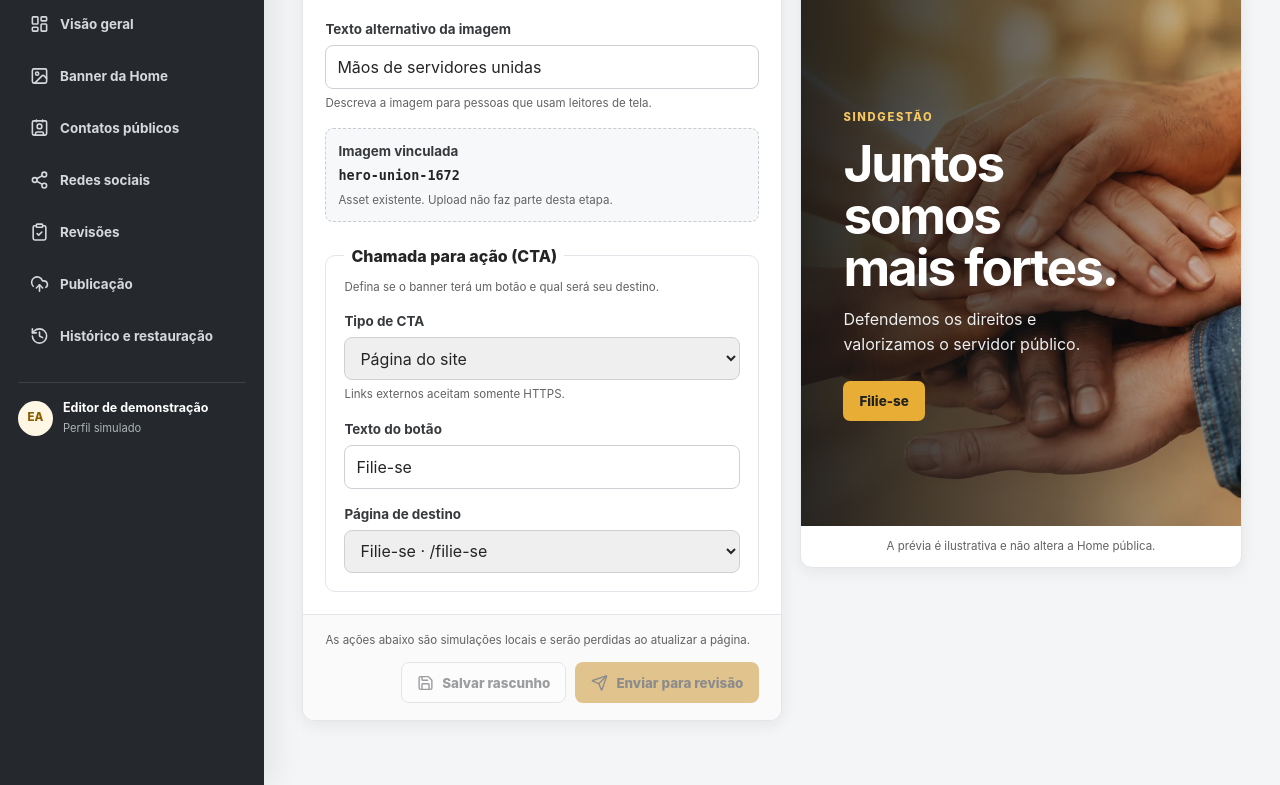
Test case: HomeManagementPage › switches between disabled, internal and external CTA contracts
The width and height of the screenshot is (1280, 785).
(page scrolled)
Select "Sem botão" in the dropdown labelled "Tipo de CTA Links externos aceitam somente HTTPS.". click: (542, 359)
box: [344,337,740,380]
(page scrolled)
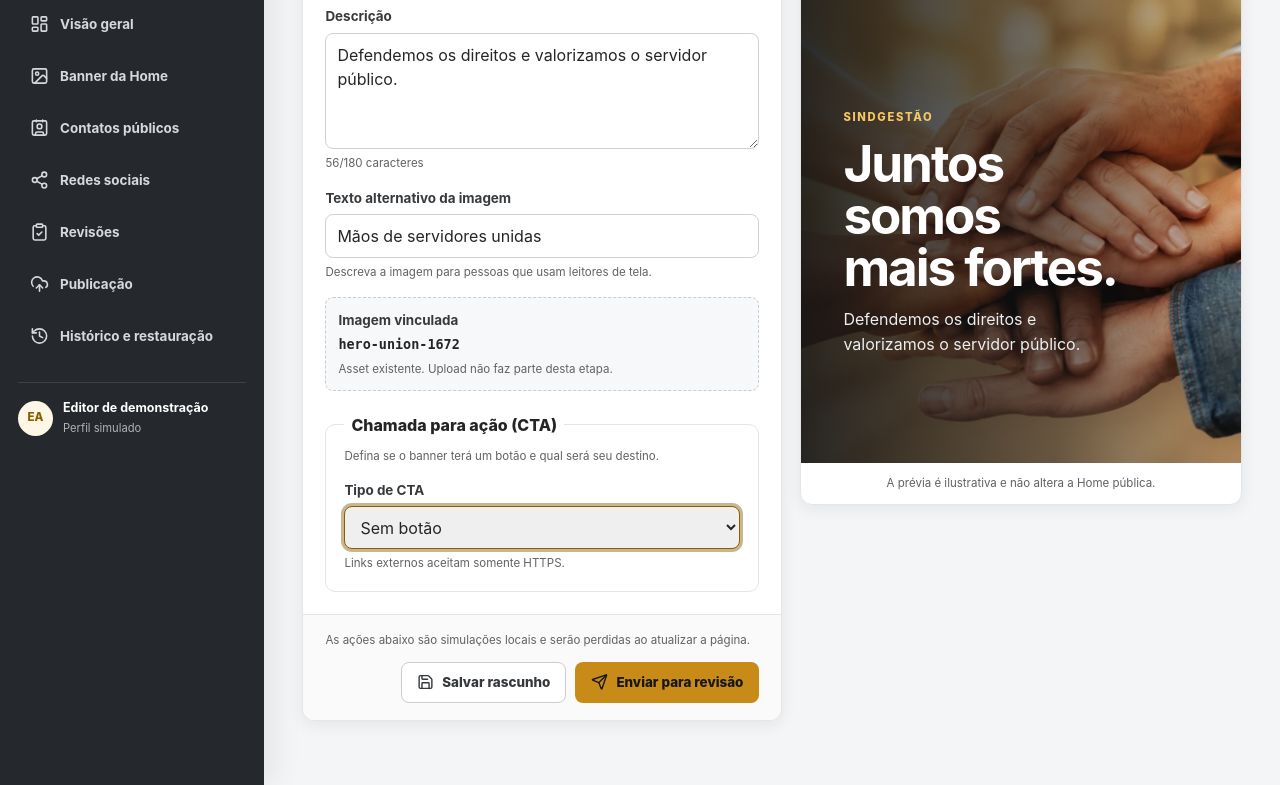
expect the text labelled "Texto do botão" is gone: met
Select "Endereço externo" in the dropdown labelled "Tipo de CTA Links externos aceitam somente HTTPS.". click: (542, 528)
box: [344,506,740,549]
(page scrolled)
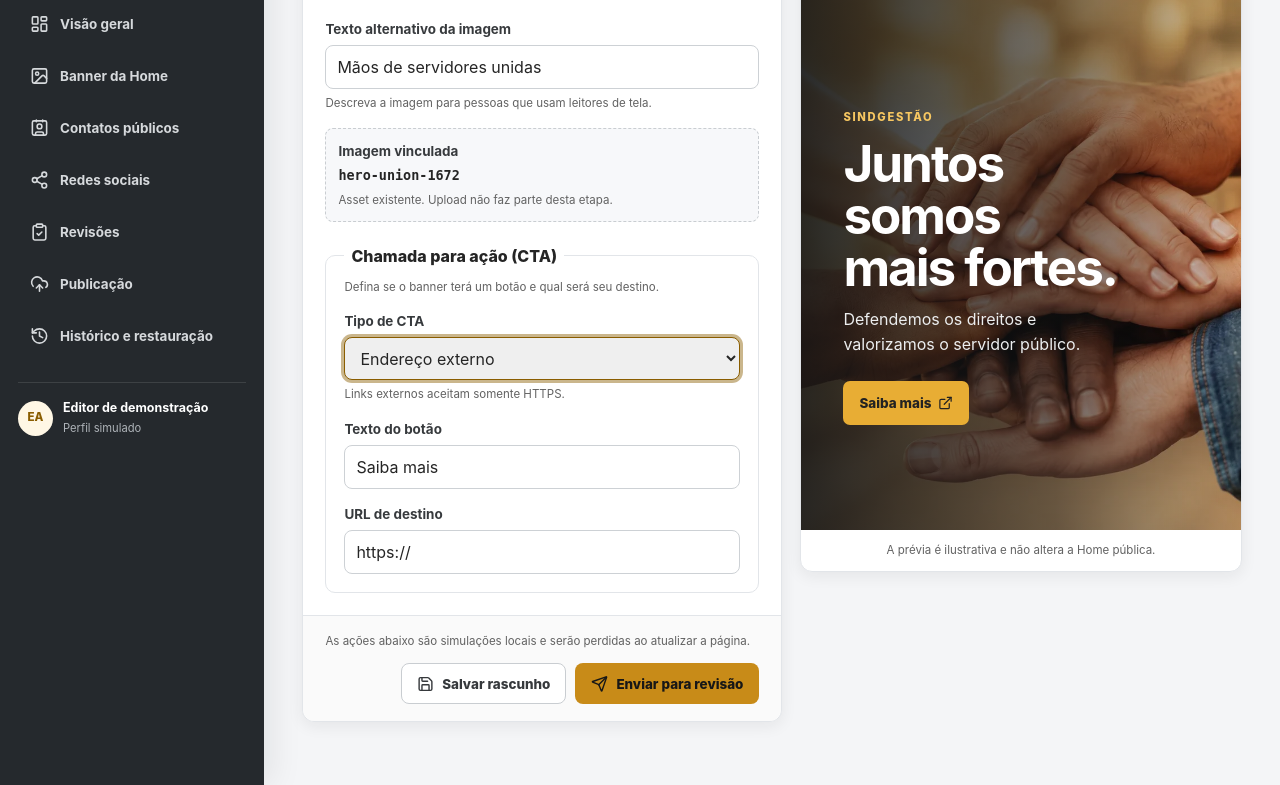
expect the field labelled "URL de destino" holds "https://": met, box [344,530,740,574]
Select "Página do site" in the dropdown labelled "Tipo de CTA Links externos aceitam somente HTTPS.". click: (542, 359)
box: [344,337,740,380]
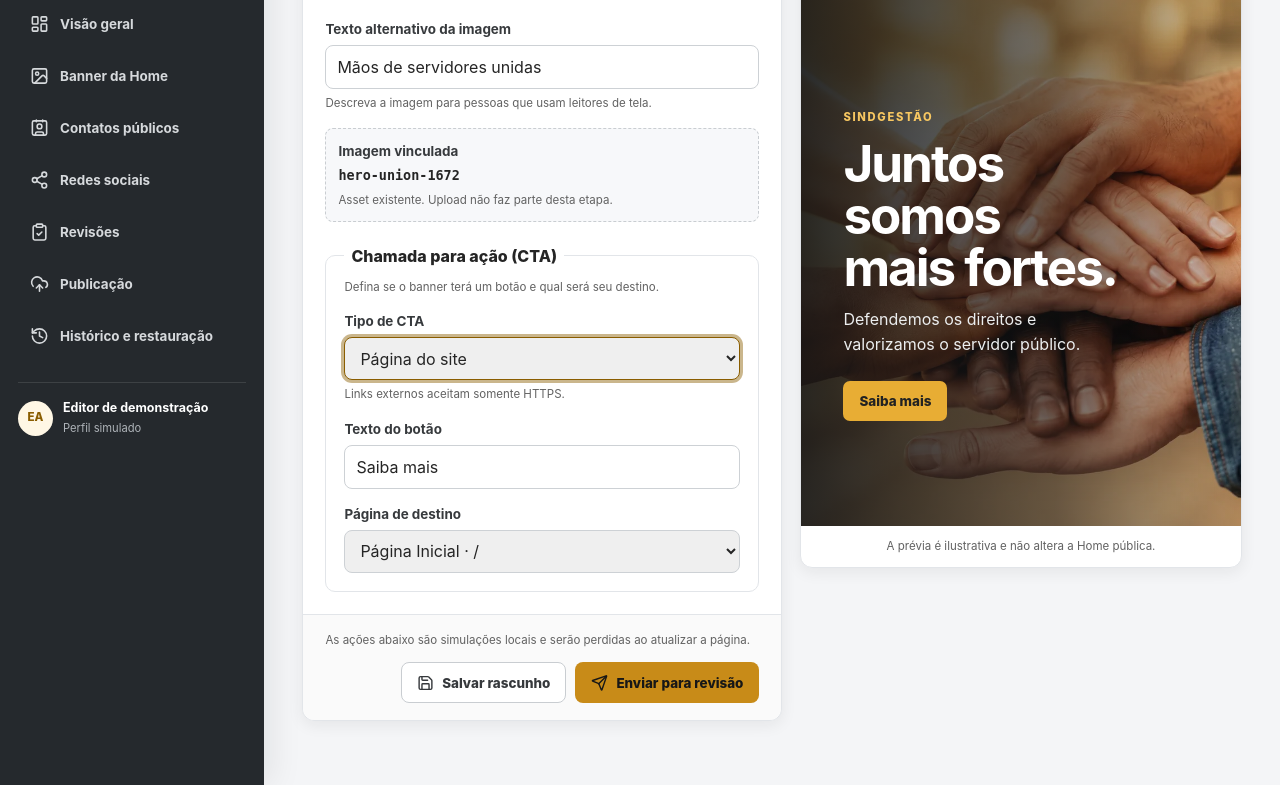
expect the dropdown labelled "Página de destino" is shown: met, box [344,530,740,573]
